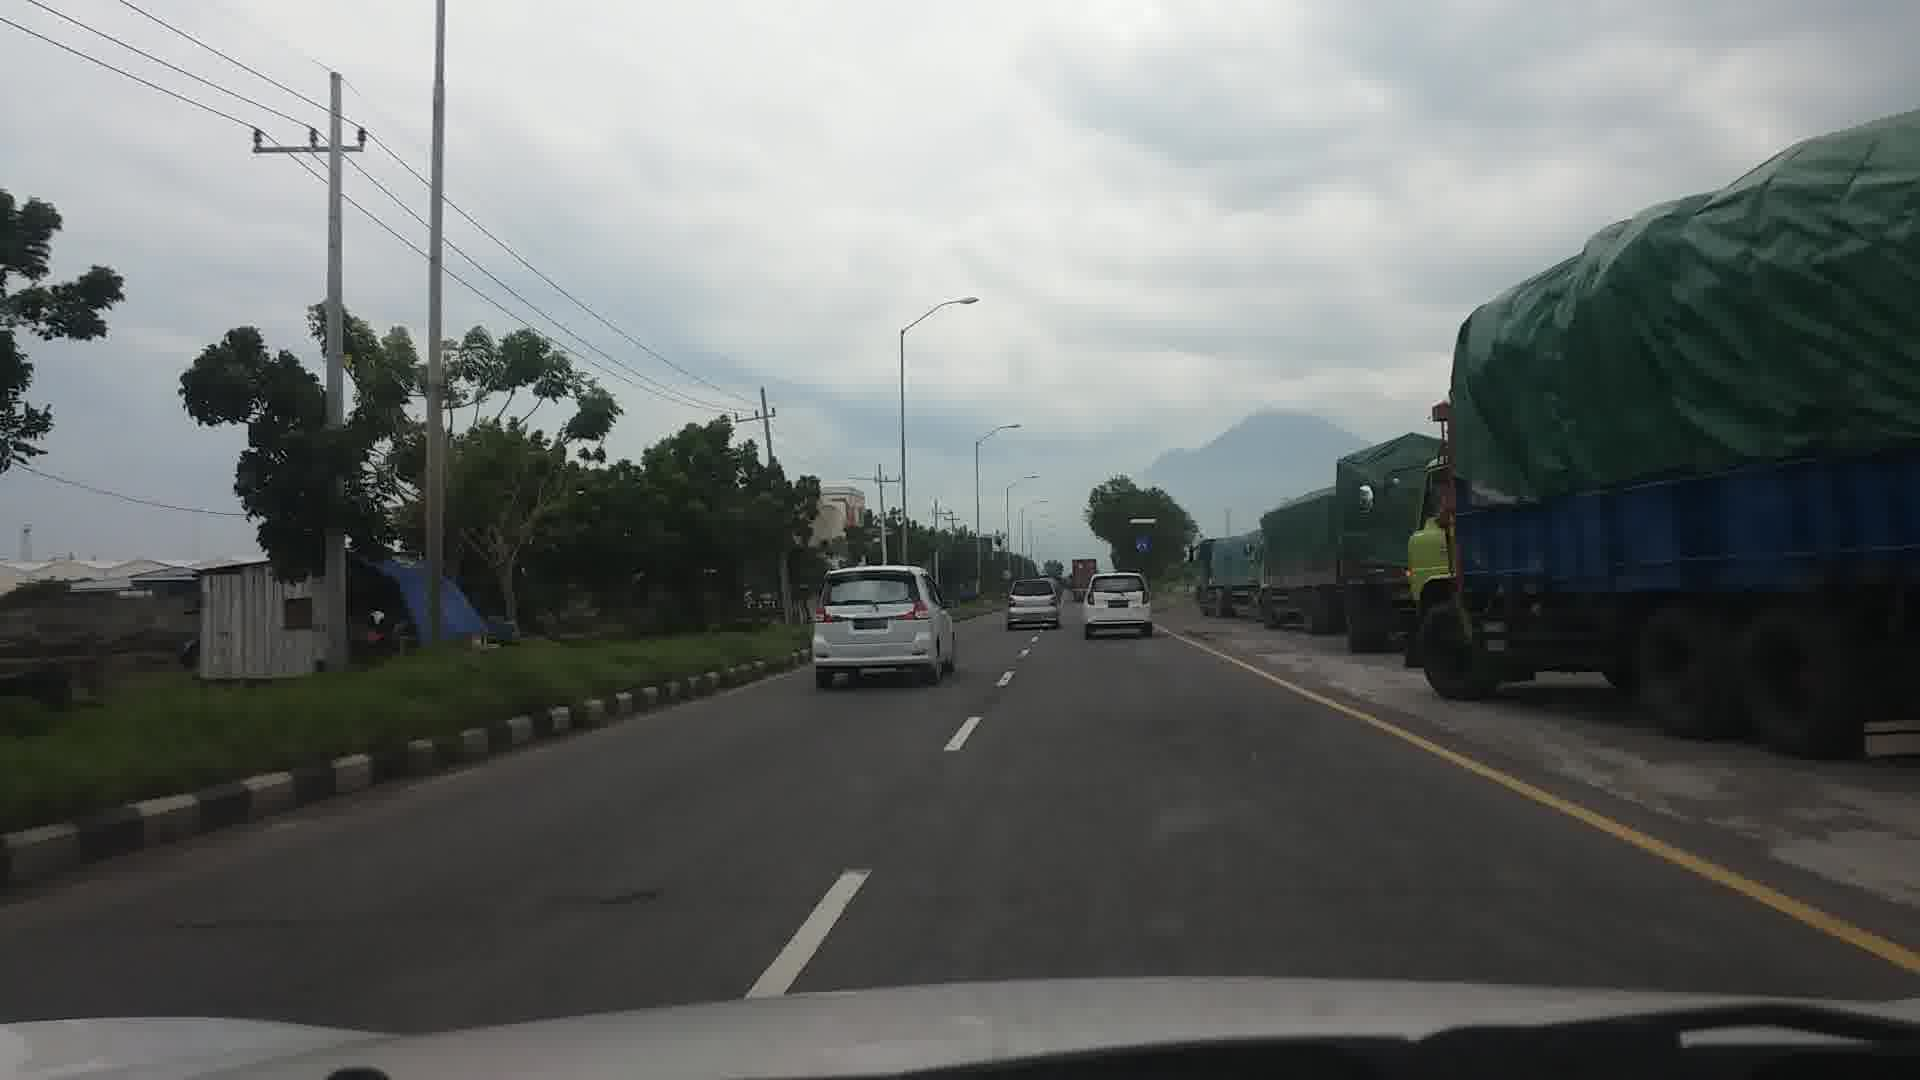plate_positive: (855, 618, 887, 630), (1108, 600, 1129, 608)
